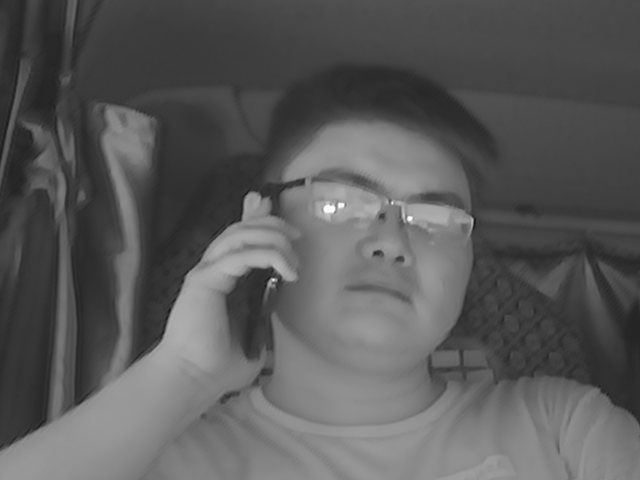hand: (155, 214, 285, 401)
